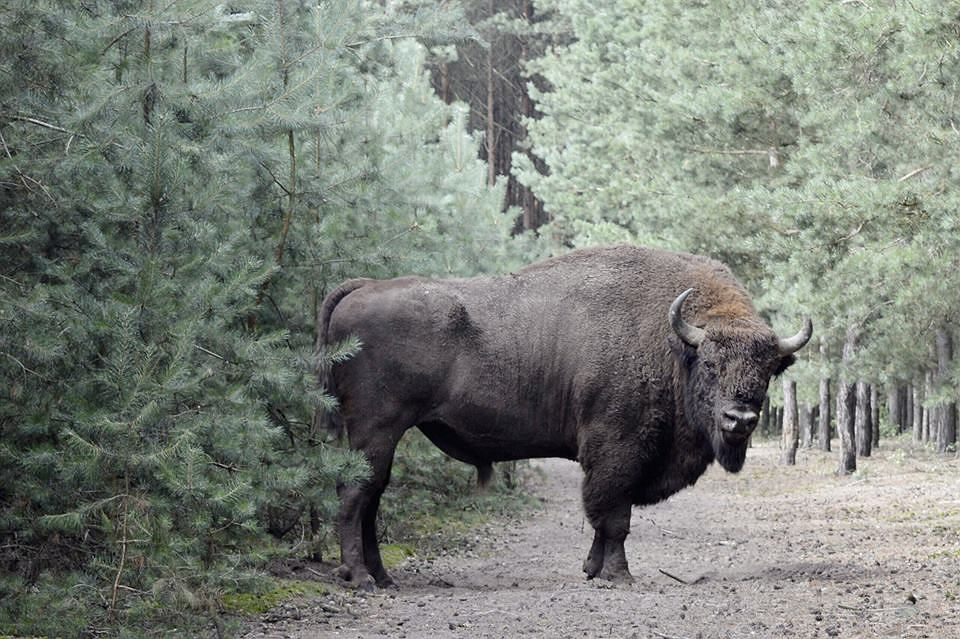zubr: (286, 234, 825, 589)
